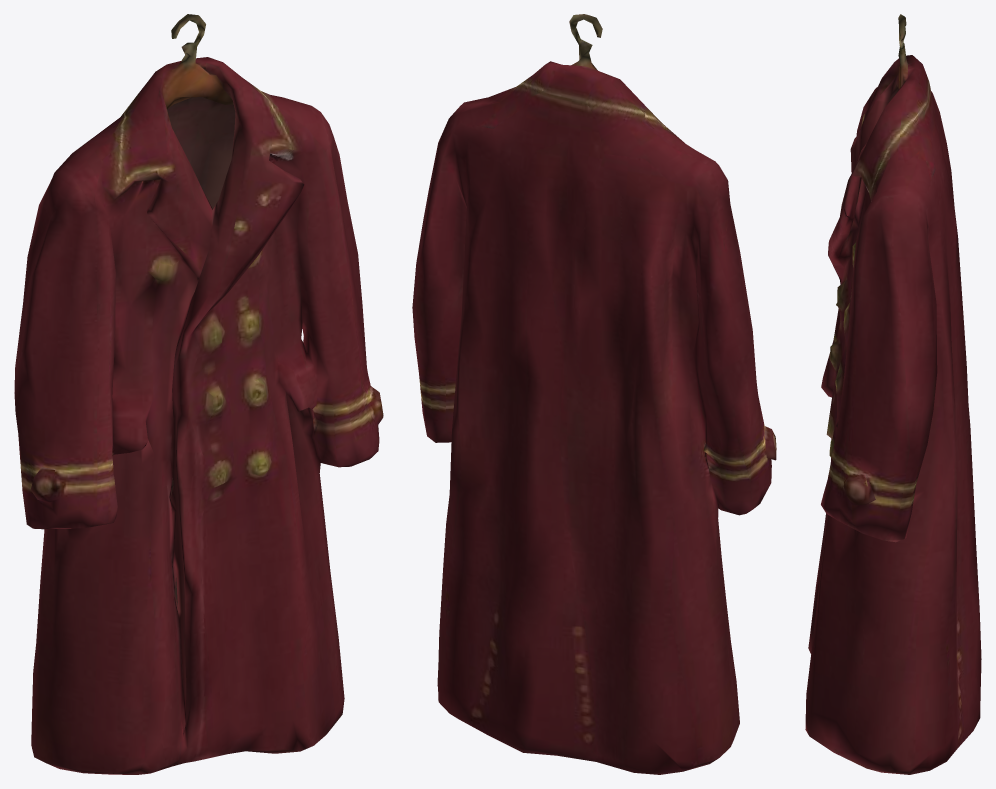
The model's file is night-coat.glb.
3 renders of one model, left to right at view 1: azimuth 30°, elevation 25°; view 2: azimuth 150°, elevation 25°; view 3: azimuth 270°, elevation 25°, orthographic. The views are drawn at different scales.
Visible parts, largest first — view 1: Mesh_0; view 2: Mesh_0; view 3: Mesh_0.
Part boxes in pixels (x1,y1,x2,y2): Mesh_0: (14, 14, 383, 774); Mesh_0: (412, 14, 776, 774); Mesh_0: (805, 14, 981, 774).
Size of the model in its own units: 0.5 by 0.9922 by 0.2266.
1 material, 1 textured.
